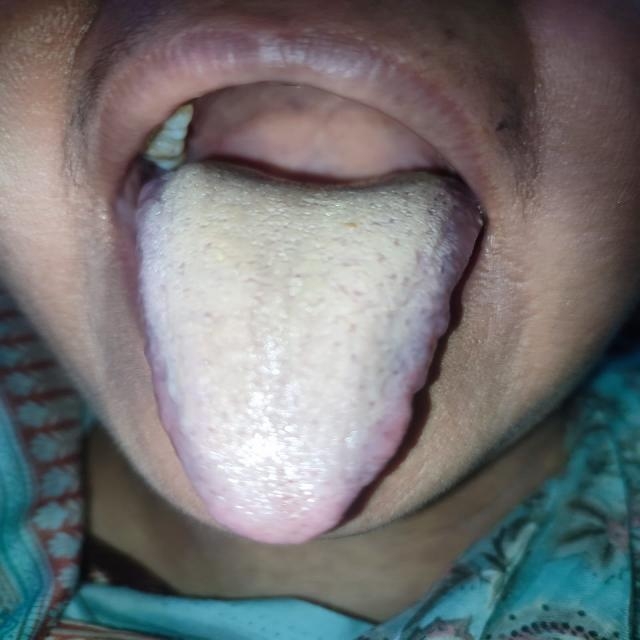No Cancer: (154, 195, 390, 505)
